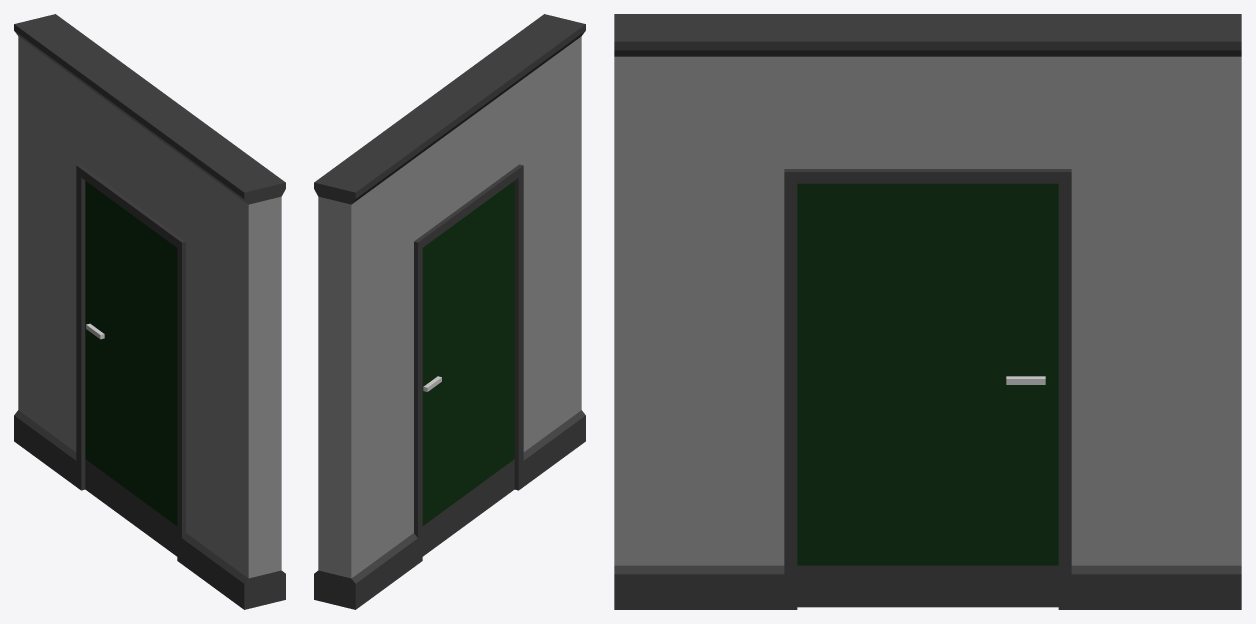
File: Neo_WallDoor_01_snaps001.fbx
3 renders of one model, left to right at view 1: azimuth 30°, elevation 25°; view 2: azimuth 150°, elevation 25°; view 3: azimuth 270°, elevation 25°, orthographic. The views are drawn at different scales.
Visible parts, largest first — view 1: Neo_WallDoor_01_snaps001; view 2: Neo_WallDoor_01_snaps001; view 3: Neo_WallDoor_01_snaps001.
Boxes of the visible parts, x1,y1,x2,y2 form: Neo_WallDoor_01_snaps001: [14, 14, 285, 609]; Neo_WallDoor_01_snaps001: [314, 14, 585, 609]; Neo_WallDoor_01_snaps001: [614, 14, 1241, 609].
Size of the model in its own units: 31.25 by 300 by 300.
